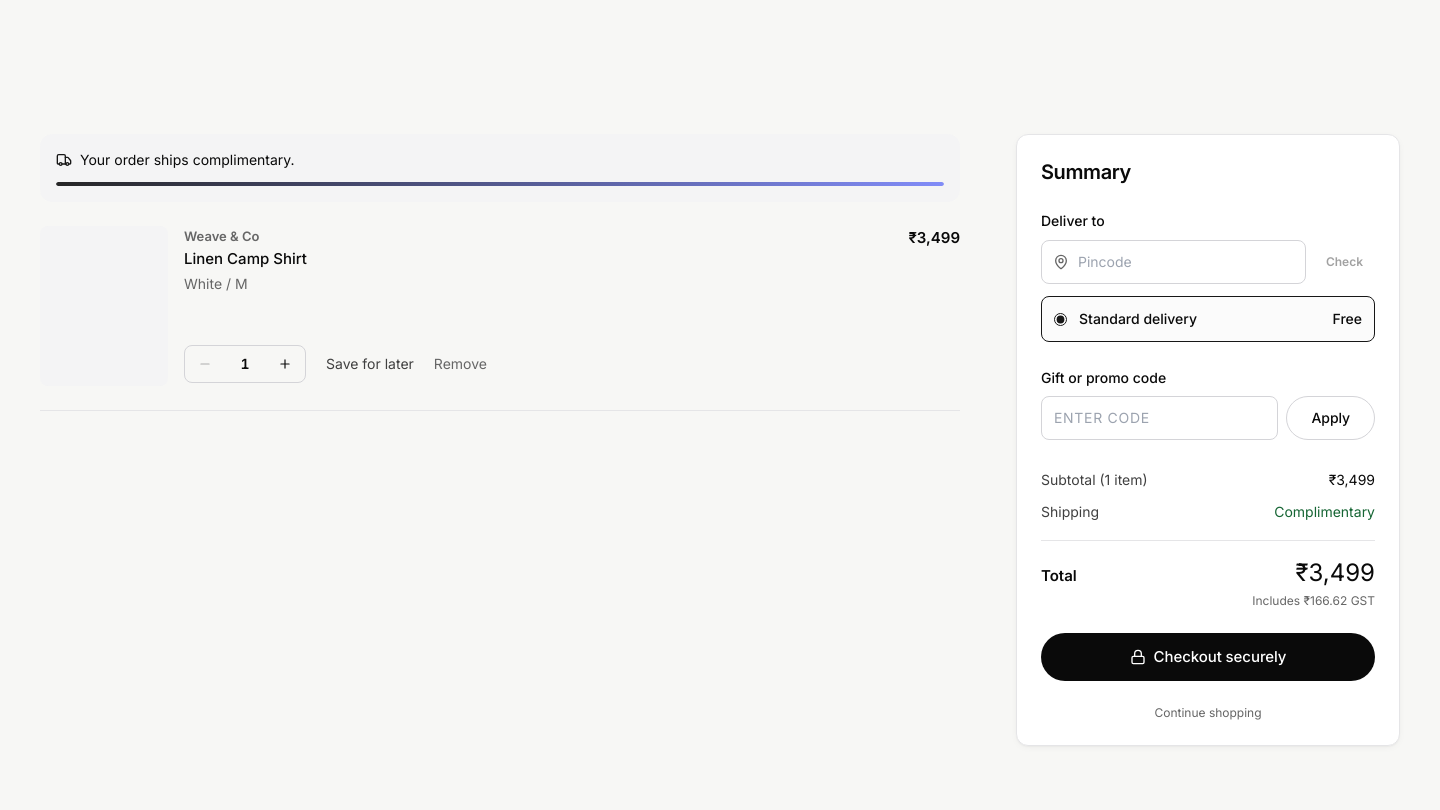
Scenario: cart page (guest) › prices the guest bag on the server and never shows client prices as totals
Check: the link "Linen Camp Shirt" is shown, box [184, 247, 307, 272]
Check: the text "₹3,499" in the row of "Weave & Co" is shown, box [908, 228, 960, 247]
Click the button named "Increase quantity" at (285, 364), box [265, 346, 305, 382]
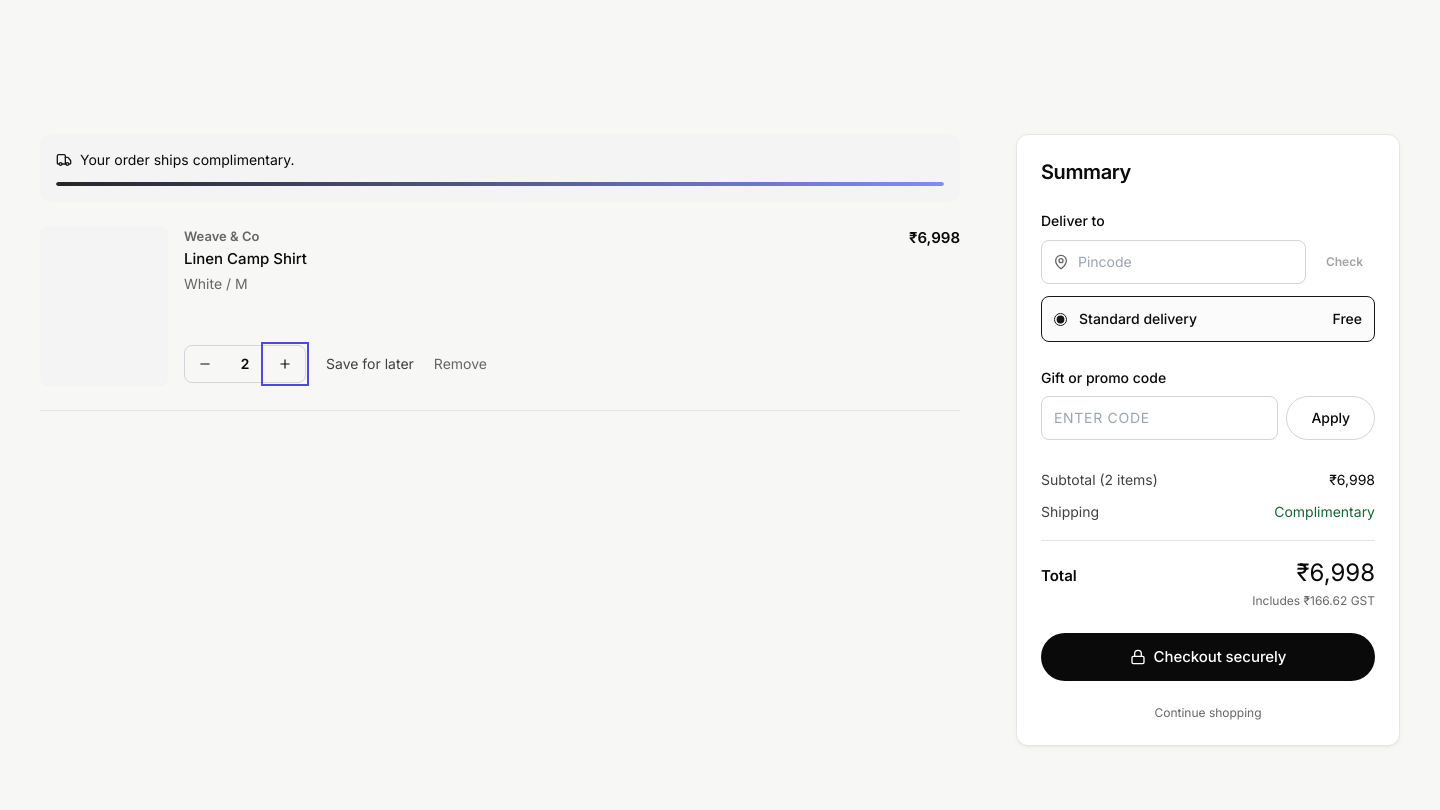
Check: the text "₹6,998" in the row of "Weave & Co" is shown, box [909, 228, 960, 247]
